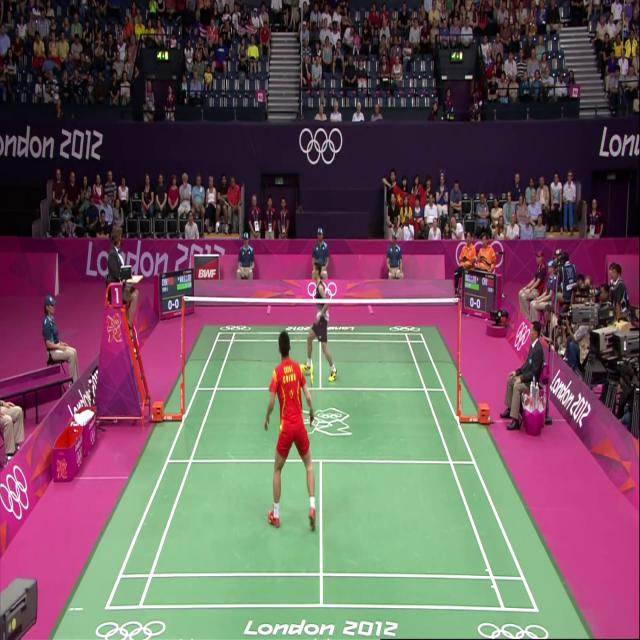Net: (180, 294, 461, 369)
Player1: (255, 327, 329, 543)
Player2: (304, 258, 343, 376)
Shuttlecock: (213, 217, 224, 235)
